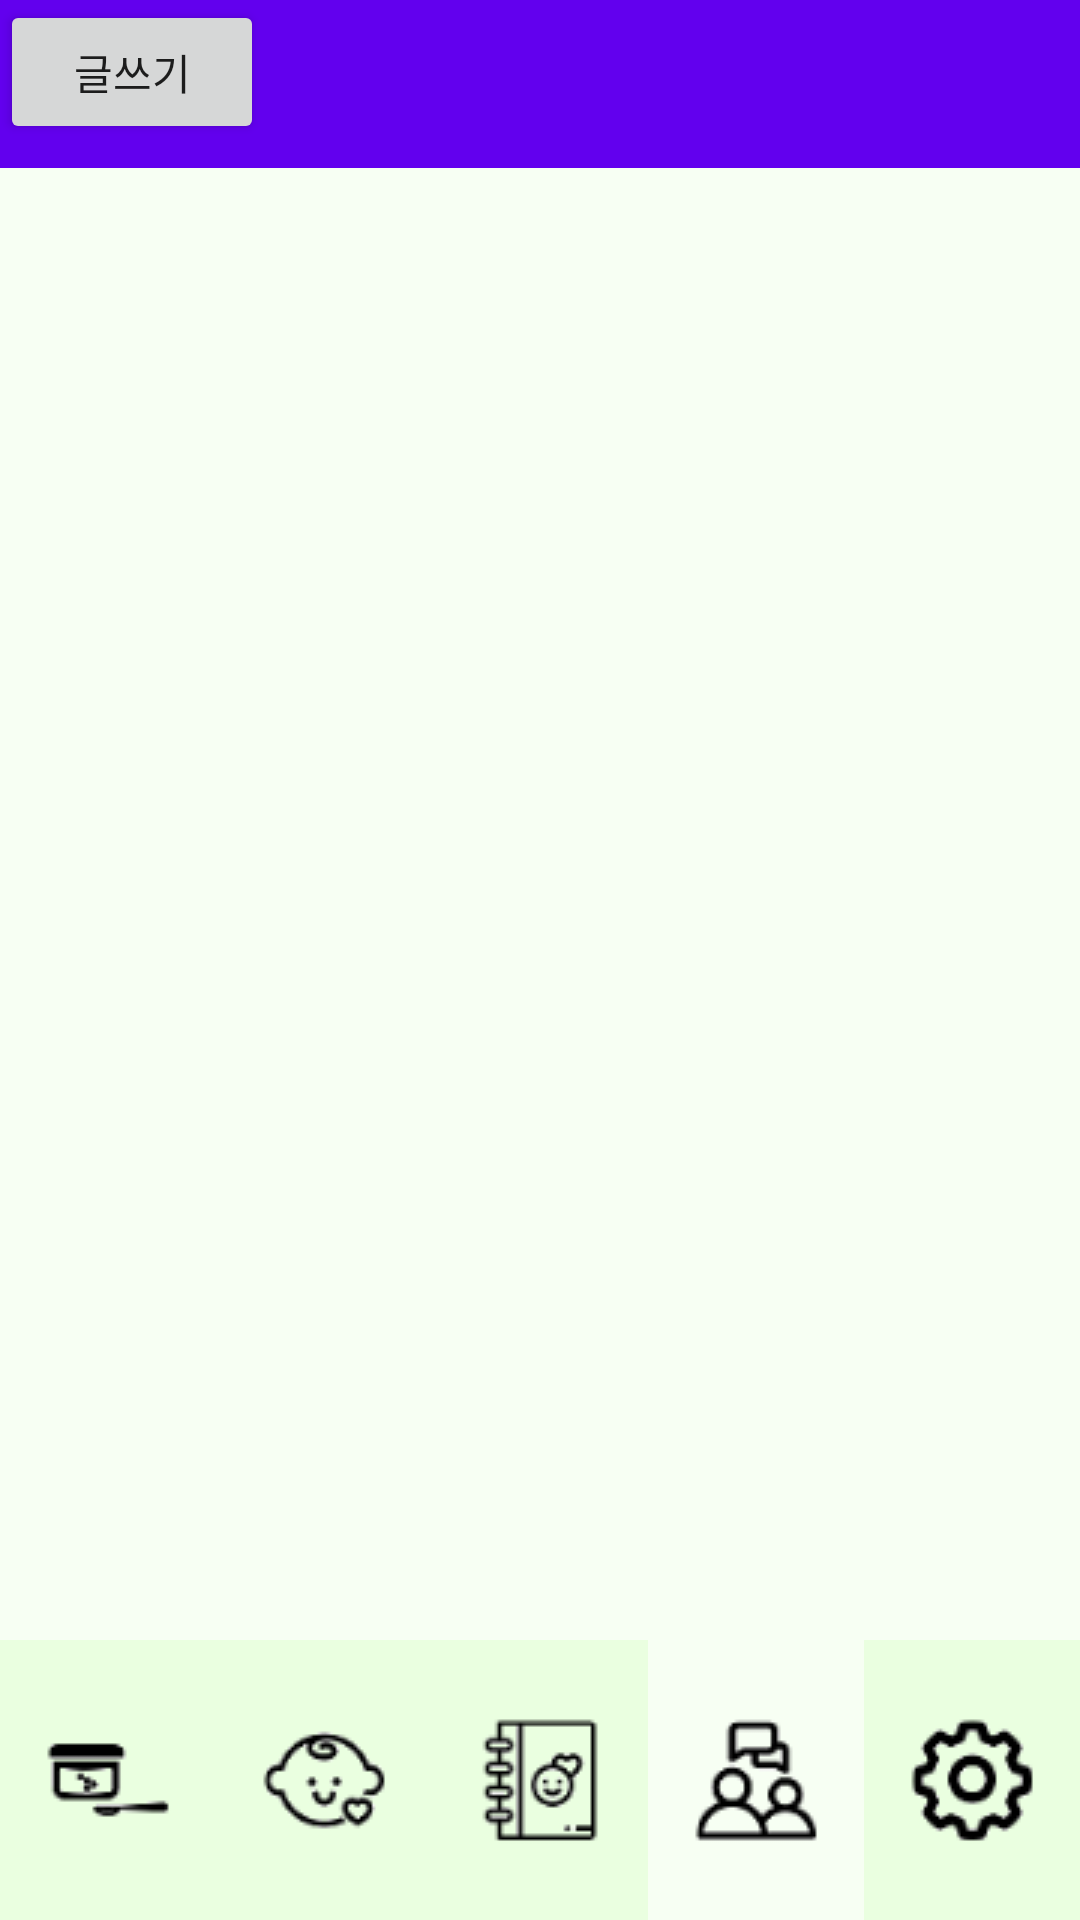

Point at icon controls on the screen. Image size 1080w x 1920h, points as (x,y).
baby: (324,1780)
community: (756,1780)
diary: (540,1780)
setting: (972,1780)
